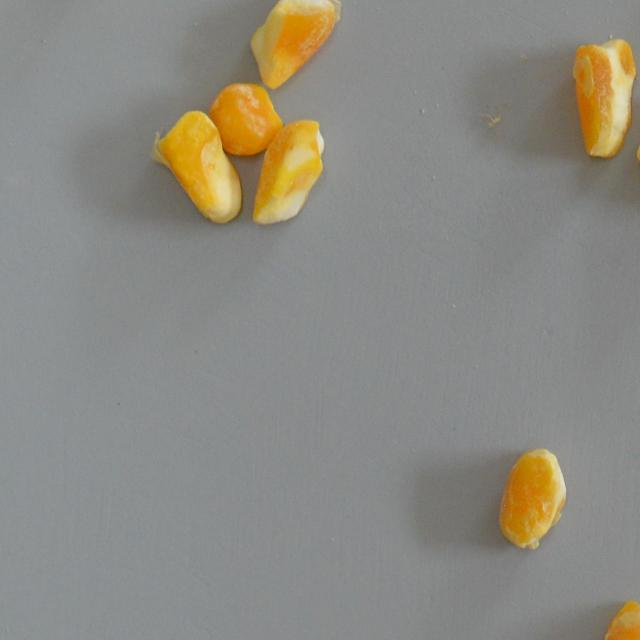pelicula: (147, 107, 244, 224), (560, 23, 640, 162), (498, 446, 582, 554), (249, 0, 342, 94), (202, 76, 286, 159), (599, 600, 640, 640)
